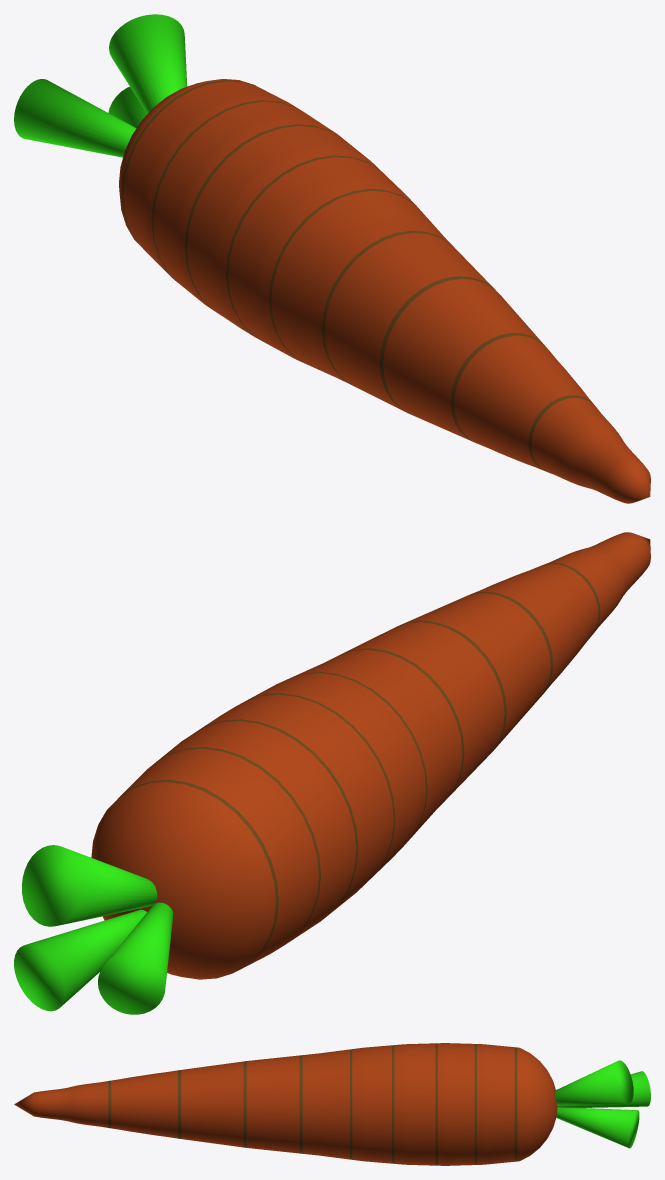
File: carrot.fbx
The picture shows the model from 3 angles, top to bottom: view 1: azimuth 30°, elevation 25°; view 2: azimuth 150°, elevation 25°; view 3: azimuth 270°, elevation 25°; orthographic projection. The views are drawn at different scales.
Parts seen in each view (by area): view 1: carrot; view 2: carrot; view 3: carrot.
Boxes of the visible parts, x1,y1,x2,y2 form: carrot: [14, 14, 650, 503]; carrot: [14, 532, 650, 1014]; carrot: [14, 1043, 650, 1165].
Size of the model in its own units: 200 by 200 by 1035.
